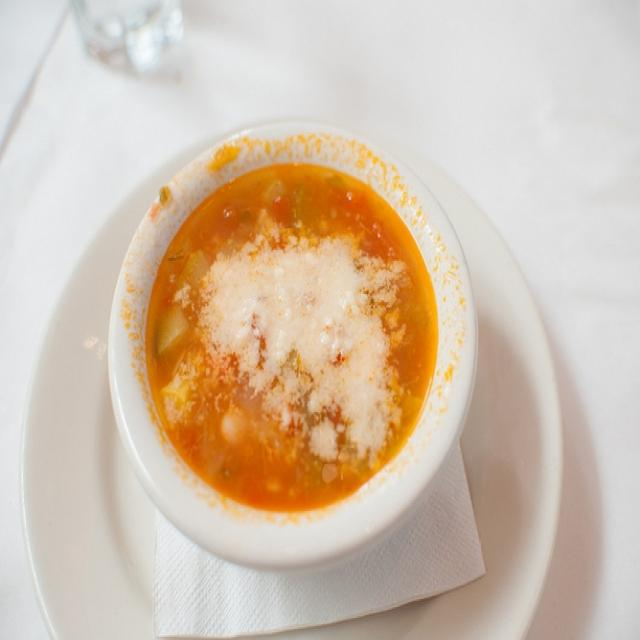汤锅炖物: (130, 140, 443, 542)
